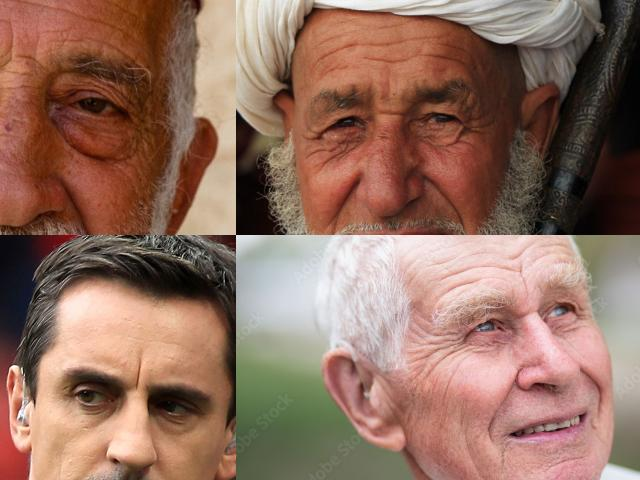chin: (552, 454, 586, 468)
crows_feet: (127, 105, 153, 155), (431, 329, 464, 359), (459, 116, 485, 144), (302, 130, 330, 156), (578, 303, 594, 327)
forehead: (434, 258, 472, 292), (46, 1, 94, 27), (314, 34, 346, 70), (472, 246, 498, 283), (363, 52, 419, 68), (358, 33, 422, 47), (104, 36, 138, 62), (430, 42, 466, 66), (502, 254, 530, 276), (537, 235, 571, 252), (378, 18, 408, 30)
frown_line: (3, 34, 37, 78), (372, 104, 403, 120), (133, 360, 145, 396)
gummy_smile: (54, 180, 97, 235), (422, 174, 463, 210), (491, 375, 517, 427), (578, 366, 608, 404), (334, 178, 358, 222)
masseter: (439, 374, 459, 404), (50, 463, 70, 480)
